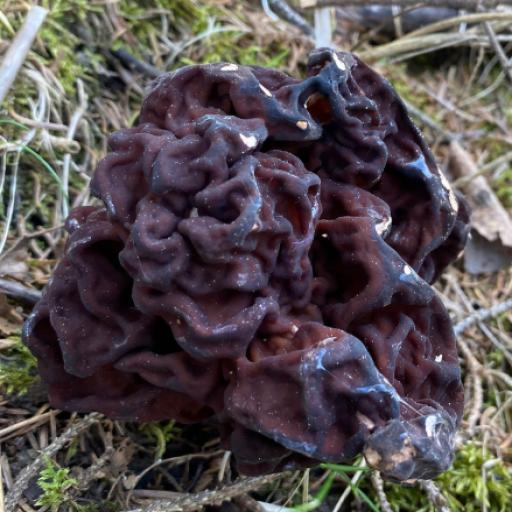mushroom: (19, 39, 477, 484)
